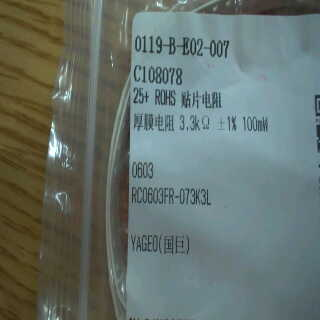3.3kO: (175, 112, 212, 135)
